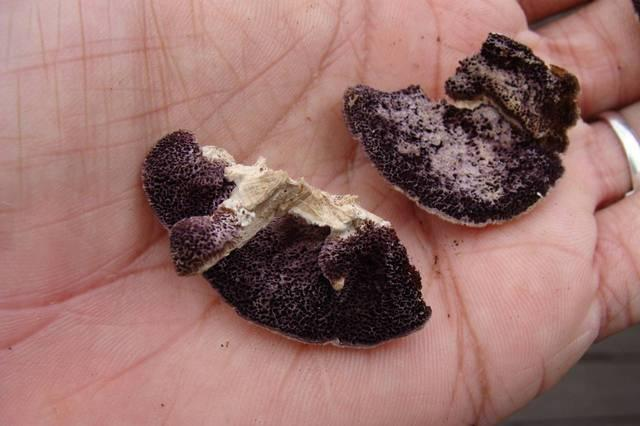poisonous_mushroom: (139, 128, 432, 349), (341, 31, 582, 227)
